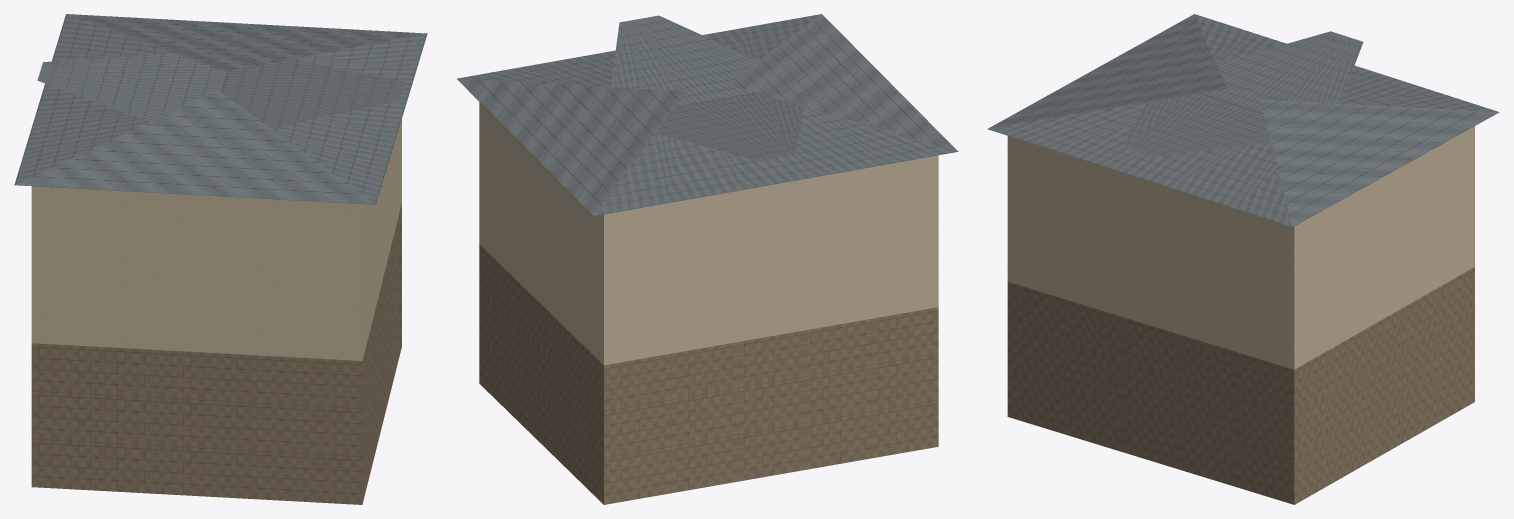
File: bld_c11_17_442.gltf
3 views of the same model, side by side, from view 1: azimuth 30°, elevation 25°; view 2: azimuth 150°, elevation 25°; view 3: azimuth 270°, elevation 25° (orthographic). The views are drawn at different scales.
Parts seen in each view (by area): view 1: bld_c11_17_442; view 2: bld_c11_17_442; view 3: bld_c11_17_442.
Boxes of the visible parts, x1=… form: bld_c11_17_442: x1=14, y1=14, x2=427, y2=504; bld_c11_17_442: x1=457, y1=14, x2=958, y2=504; bld_c11_17_442: x1=987, y1=14, x2=1499, y2=504.
Size of the model in its own units: 17.26 by 11.9 by 17.53.
3 materials, 3 textured.
